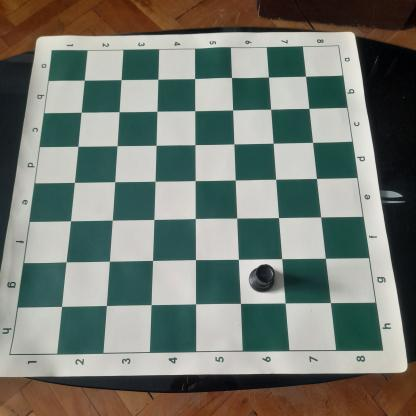black-rook: (247, 263, 276, 294)
